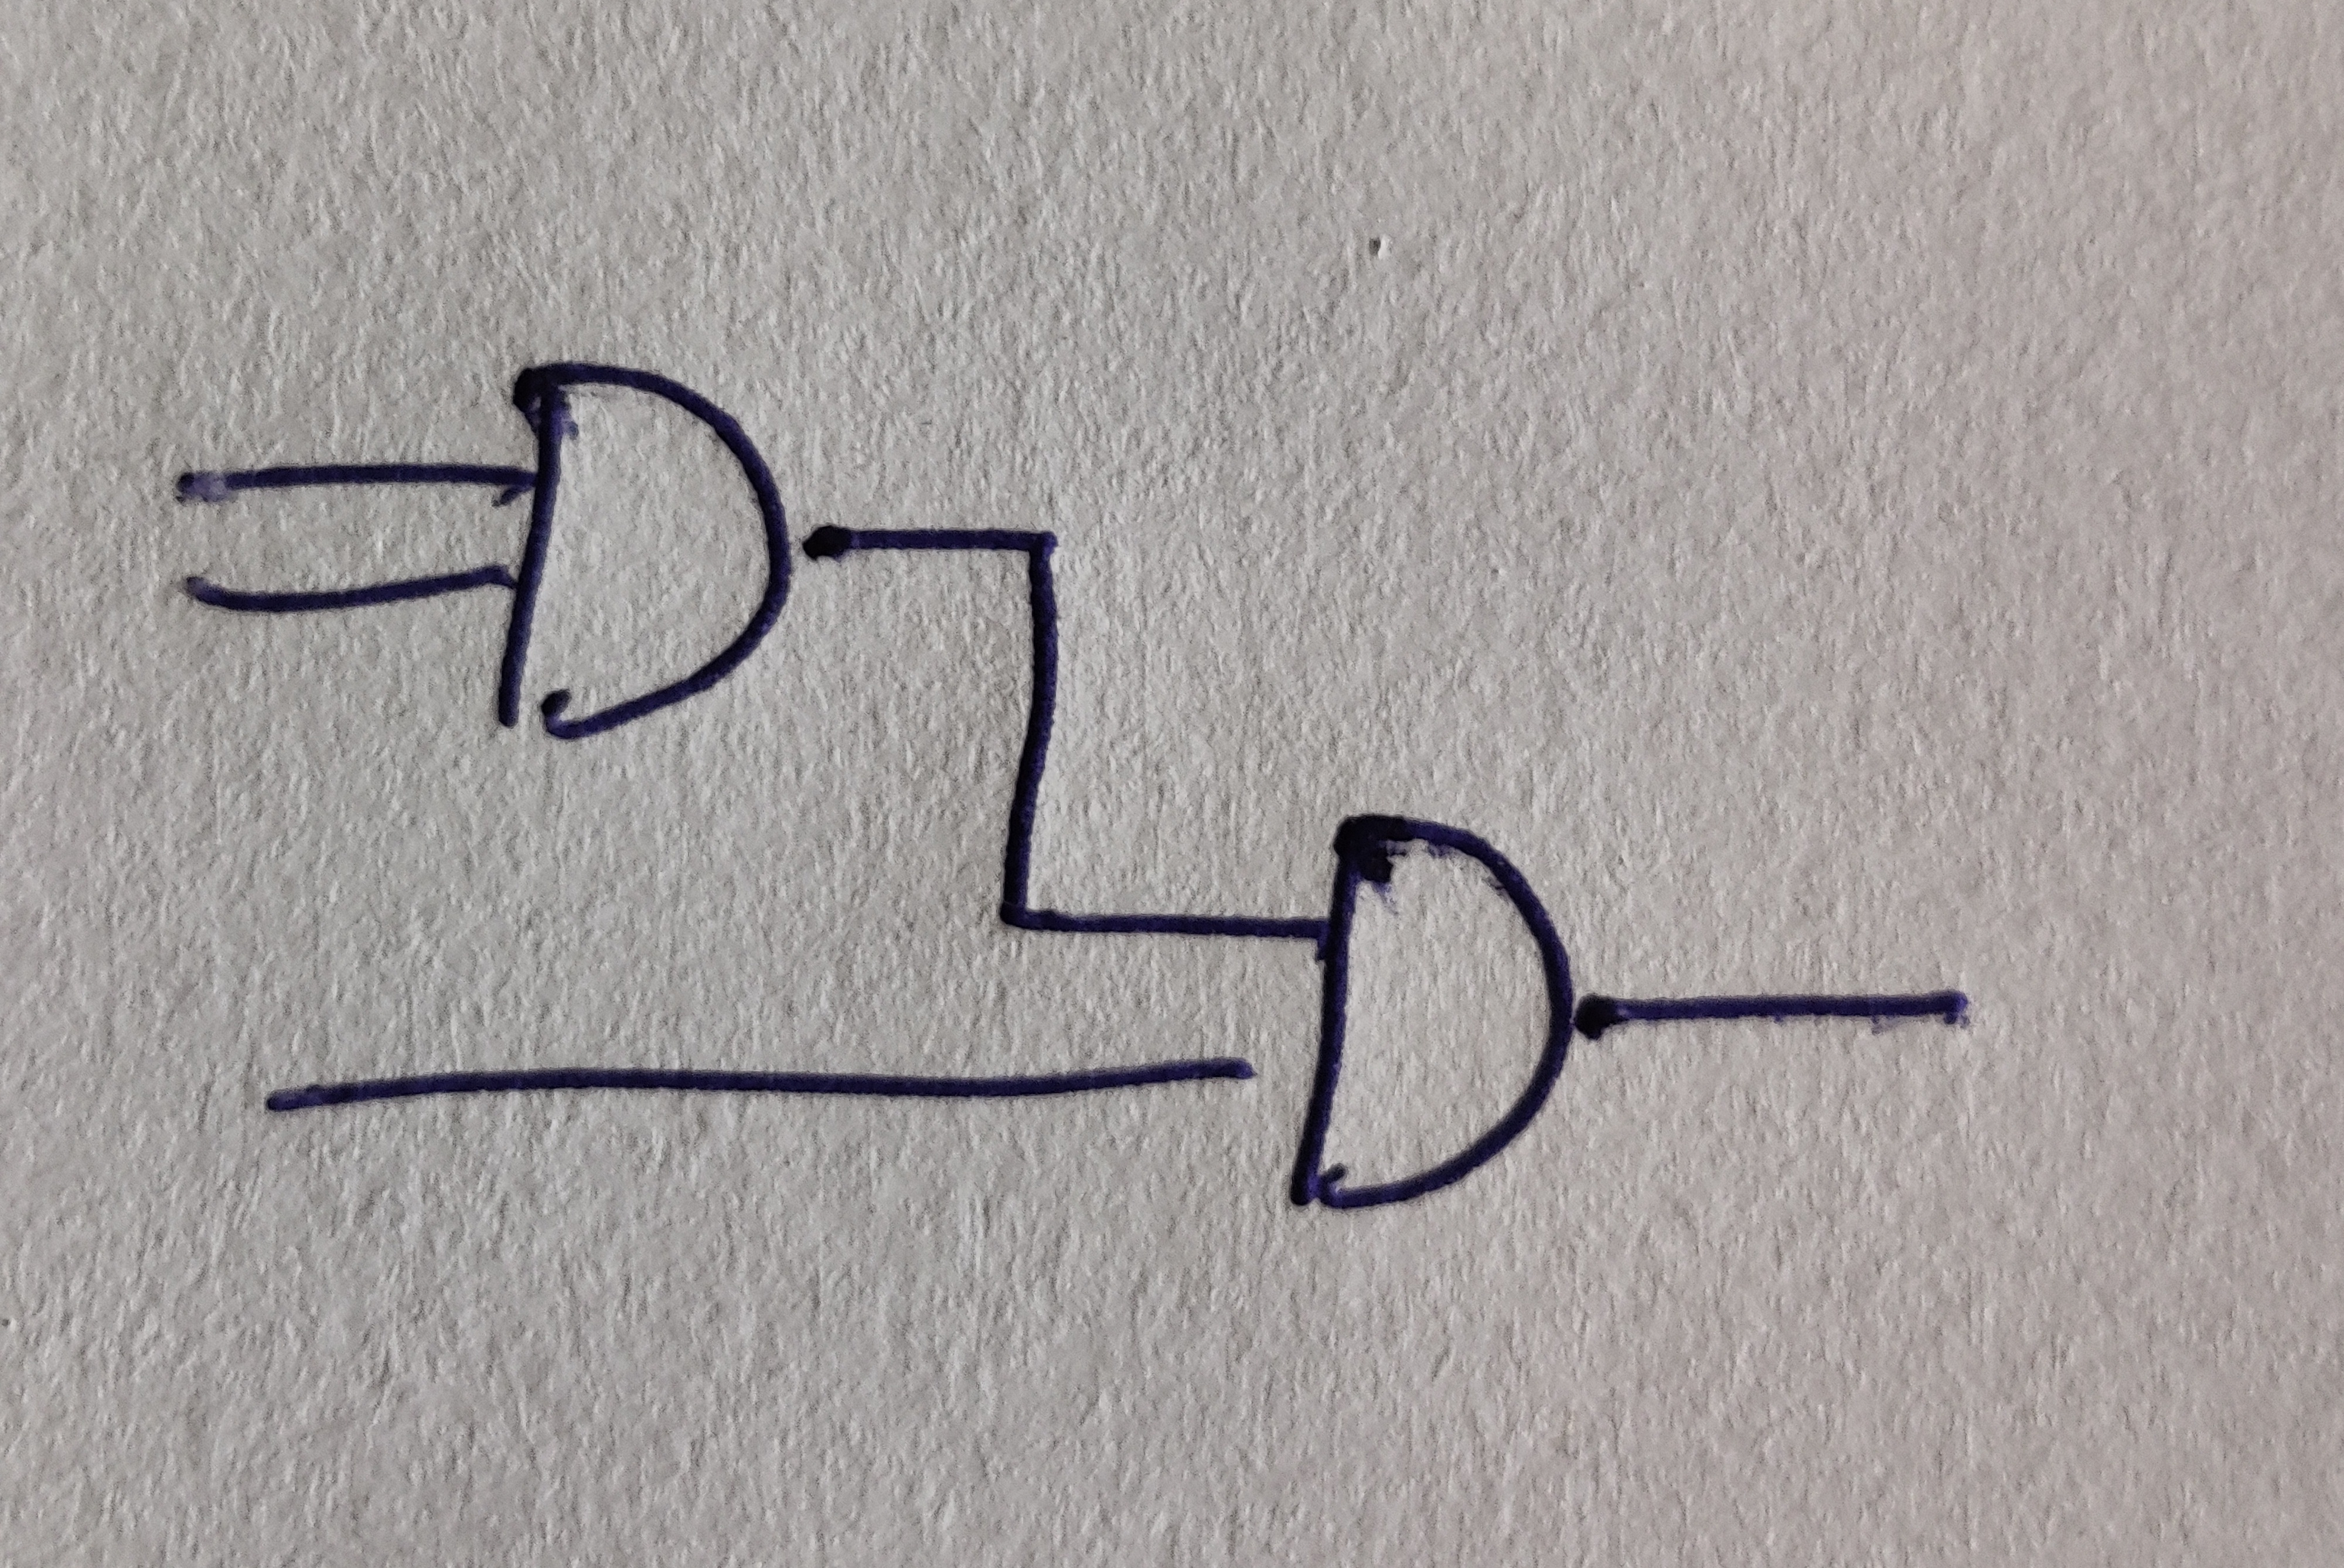and: (492, 364, 791, 740), (1291, 817, 1573, 1207)
